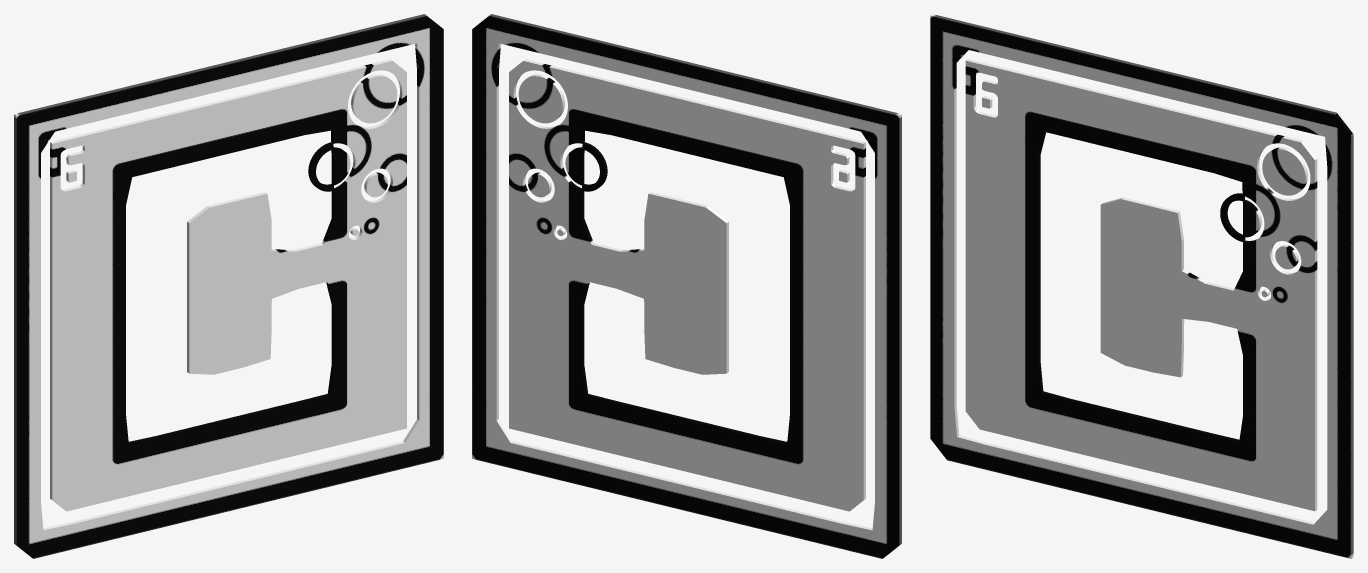
Rendered from carbonated.glb.
3 renders of one model, left to right at view 1: azimuth 30°, elevation 25°; view 2: azimuth 150°, elevation 25°; view 3: azimuth 330°, elevation 25°, orthographic.
Visible parts, largest first — view 1: Curve; view 2: Curve; view 3: Curve.
Part boxes in pixels (x1,y1,x2,y2): Curve: (14, 14, 443, 558); Curve: (472, 14, 901, 558); Curve: (930, 14, 1353, 558).
Size of the model in its own units: 0.5419 by 0.5418 by 0.005.
Materials: 1 (1 with a texture image).
